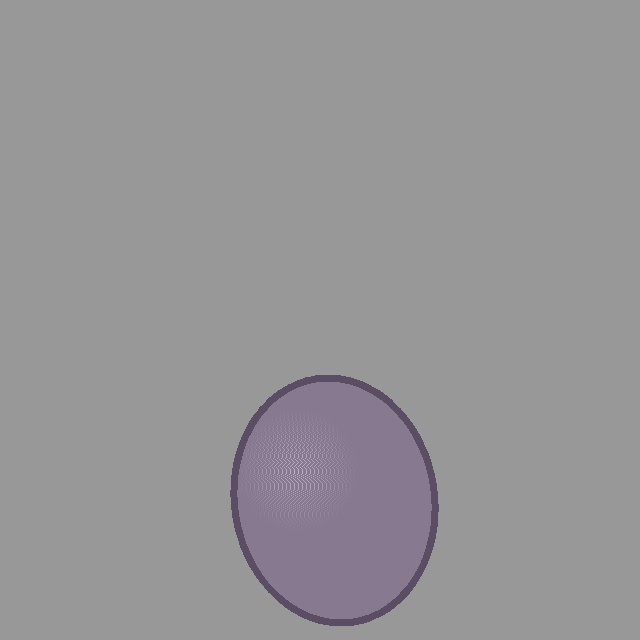lens: (234, 379, 434, 621)
